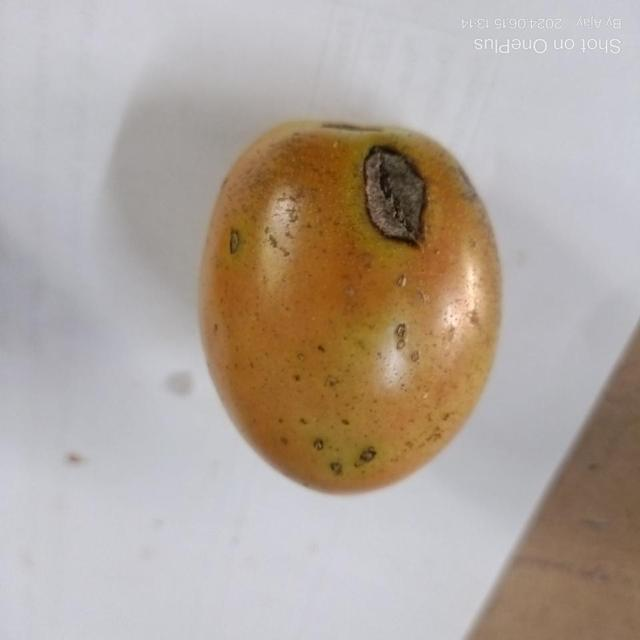Bacterial Spot Fruit: (14, 18, 266, 306)
